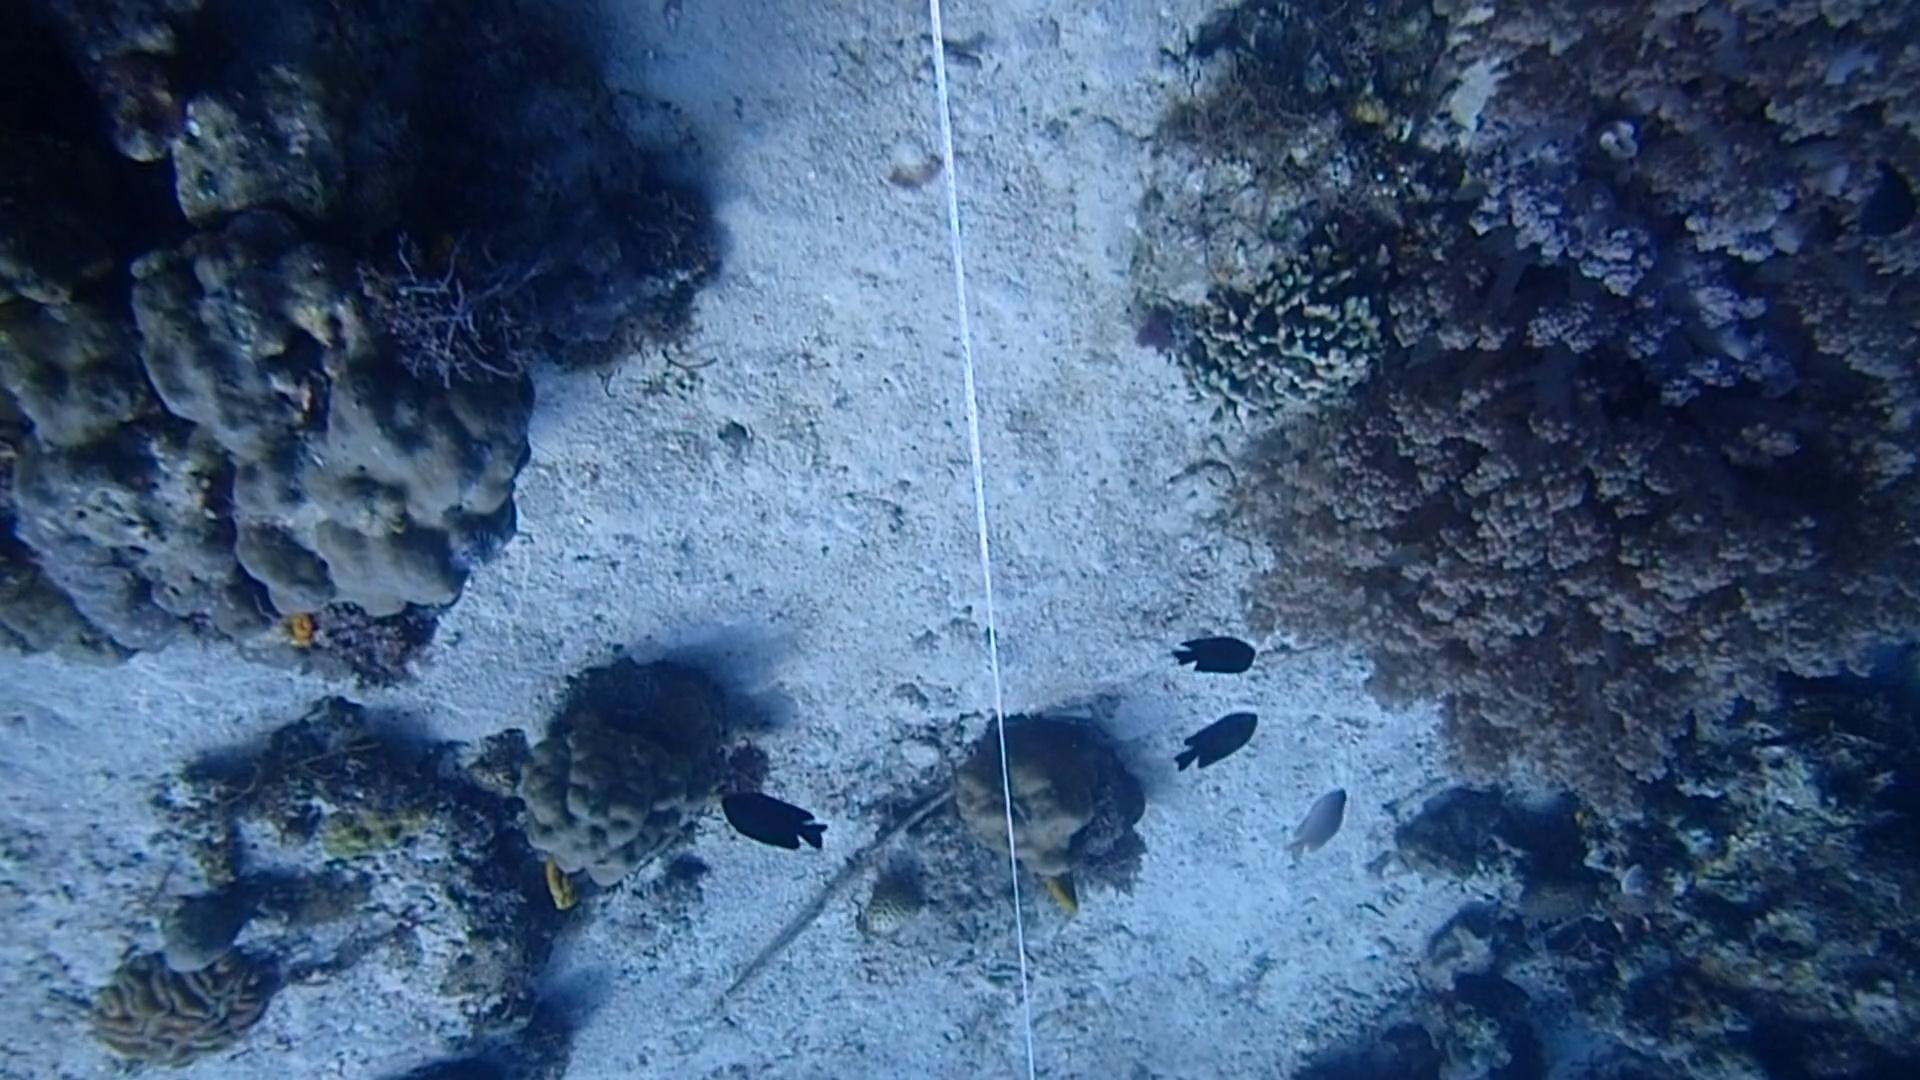Dark Fish: (723, 793, 836, 862), (1170, 702, 1262, 778), (1164, 632, 1262, 679), (1863, 154, 1920, 233)
Light Fish: (1279, 782, 1365, 868)
